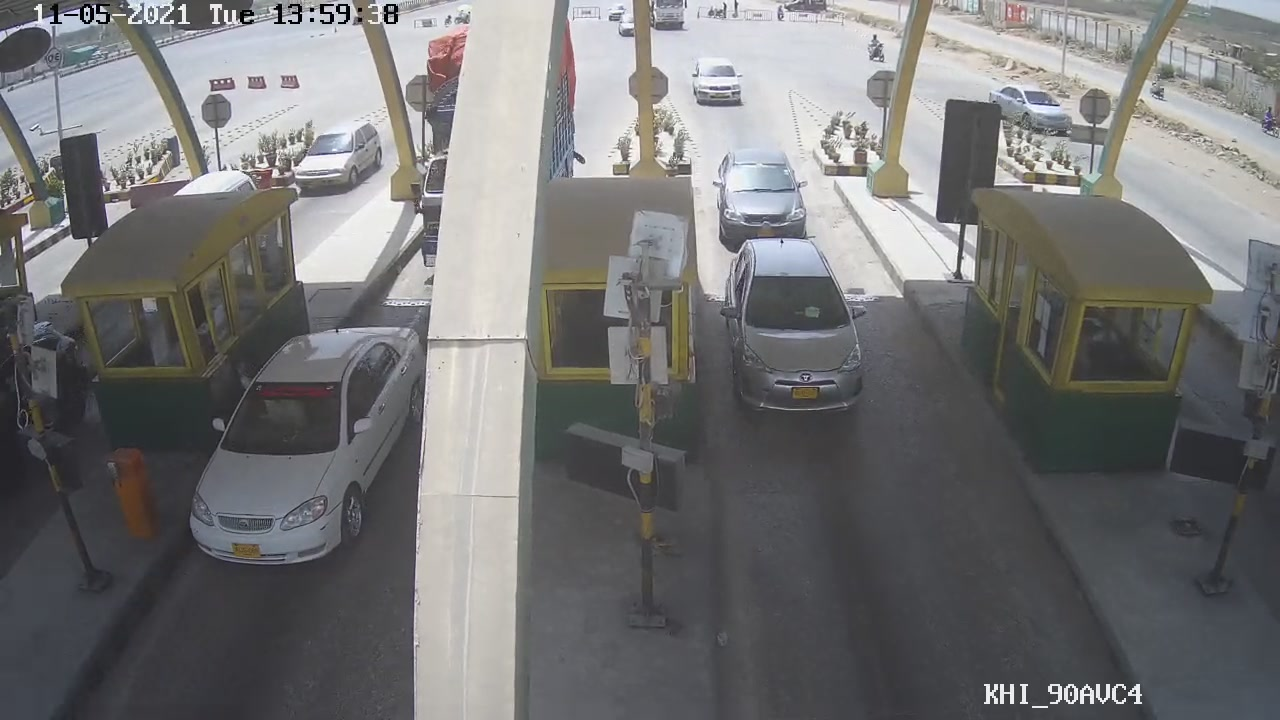F1: (715, 230, 880, 421)
